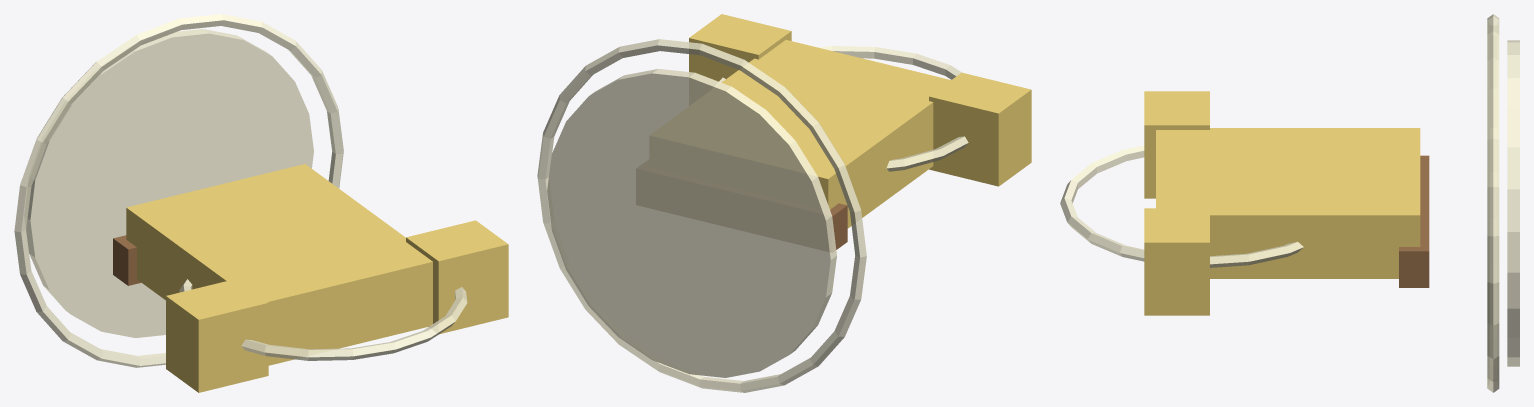
File: armor_pickup_godplate_godly.glb
The picture shows the model from 3 angles, left to right: view 1: azimuth 30°, elevation 25°; view 2: azimuth 150°, elevation 25°; view 3: azimuth 270°, elevation 25°; orthographic projection.
Parts seen in each view (by area): view 1: rarity_base_disc, torso_plate, left_pauldron, rarity_orbit_ring, right_pauldron, divine_halo, belt; view 2: rarity_base_disc, torso_plate, rarity_orbit_ring, left_pauldron, right_pauldron, divine_halo, belt; view 3: torso_plate, right_pauldron, rarity_orbit_ring, rarity_base_disc, divine_halo, left_pauldron, belt.
Part boxes in pixels (x1,y1,x2,y2): rarity_base_disc: (26, 29, 313, 337); torso_plate: (126, 164, 432, 365); left_pauldron: (166, 279, 268, 392); rarity_orbit_ring: (14, 14, 343, 367); right_pauldron: (406, 220, 508, 334); divine_halo: (179, 279, 467, 360); belt: (113, 235, 141, 285); rarity_base_disc: (547, 69, 836, 377); torso_plate: (721, 40, 950, 228); rarity_orbit_ring: (537, 39, 866, 392); left_pauldron: (929, 72, 1031, 186); right_pauldron: (689, 14, 791, 81); divine_halo: (719, 46, 968, 171); belt: (830, 203, 847, 249); torso_plate: (1156, 128, 1420, 278); right_pauldron: (1144, 208, 1209, 315); rarity_orbit_ring: (1487, 14, 1499, 392); rarity_base_disc: (1507, 40, 1519, 366); divine_halo: (1060, 145, 1303, 267); left_pauldron: (1144, 91, 1209, 198); belt: (1399, 155, 1429, 287).
Bounding box in the file's own units: 1.51 × 1.51 × 1.83.
